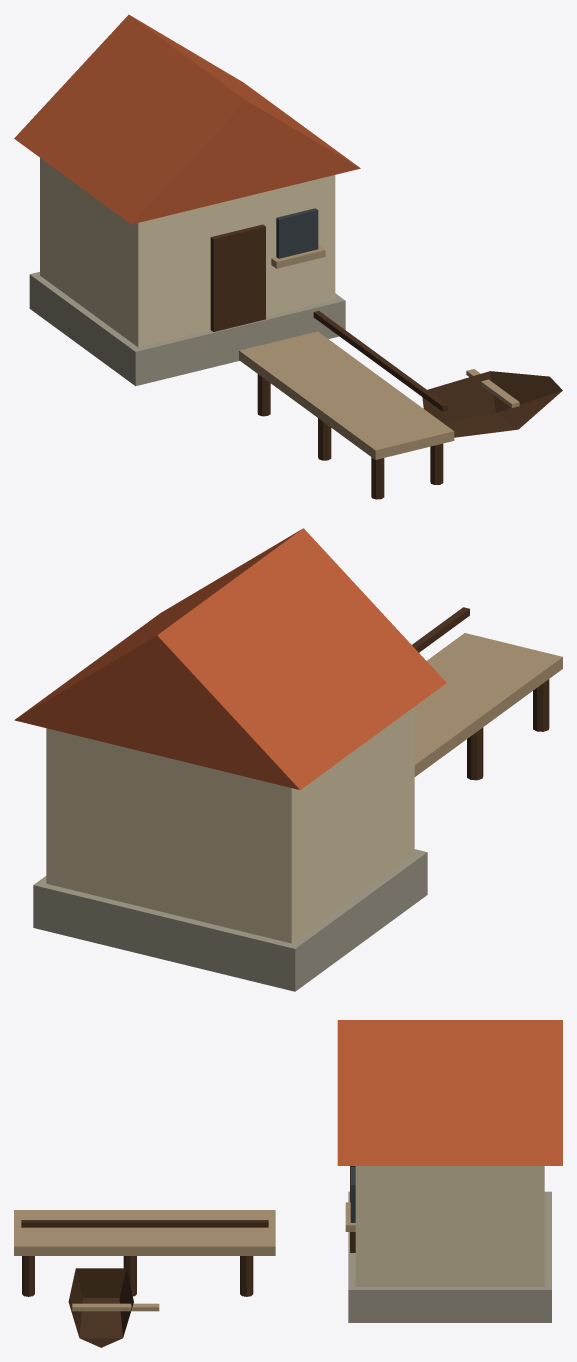
File: era1-fisher-hut-BZRV5Bzr.glb
3 views of the same model, one above another, from view 1: azimuth 30°, elevation 25°; view 2: azimuth 150°, elevation 25°; view 3: azimuth 270°, elevation 25° (orthographic). The views are drawn at different scales.
Parts seen in each view (by area): view 1: FH_Roof, FH_Walls, FH_PierDeck, FH_Footing, FH_BoatHull, FH_Door, FH_Window, FH_PierRail; view 2: FH_Roof, FH_Walls, FH_Footing, FH_PierDeck, FH_PierPost2, FH_PierPost4, FH_PierRail; view 3: FH_Roof, FH_Walls, FH_PierDeck, FH_Footing, FH_BoatHull, FH_PierRail, FH_PierPost1, FH_PierPost5.
Boxes of the visible parts, x1,y1,x2,y2 form: FH_Roof: [14, 14, 360, 224]; FH_Walls: [40, 158, 335, 347]; FH_PierDeck: [239, 331, 454, 459]; FH_Footing: [29, 272, 345, 386]; FH_BoatHull: [422, 371, 562, 437]; FH_Door: [210, 224, 265, 331]; FH_Window: [276, 208, 318, 258]; FH_PierRail: [313, 311, 447, 411]; FH_Roof: [14, 528, 446, 789]; FH_Walls: [46, 707, 414, 943]; FH_Footing: [33, 849, 427, 991]; FH_PierDeck: [414, 633, 562, 776]; FH_PierPost2: [467, 727, 483, 780]; FH_PierPost4: [533, 679, 549, 731]; FH_PierRail: [412, 607, 469, 652]; FH_Roof: [337, 1020, 562, 1165]; FH_Walls: [355, 1166, 544, 1286]; FH_PierDeck: [14, 1210, 275, 1255]; FH_Footing: [348, 1191, 551, 1322]; FH_BoatHull: [68, 1268, 133, 1347]; FH_PierRail: [21, 1220, 268, 1227]; FH_PierPost1: [240, 1256, 253, 1296]; FH_PierPost5: [22, 1256, 34, 1296].
Bounding box in the file's own units: 4.7 × 3.95 × 7.55.
